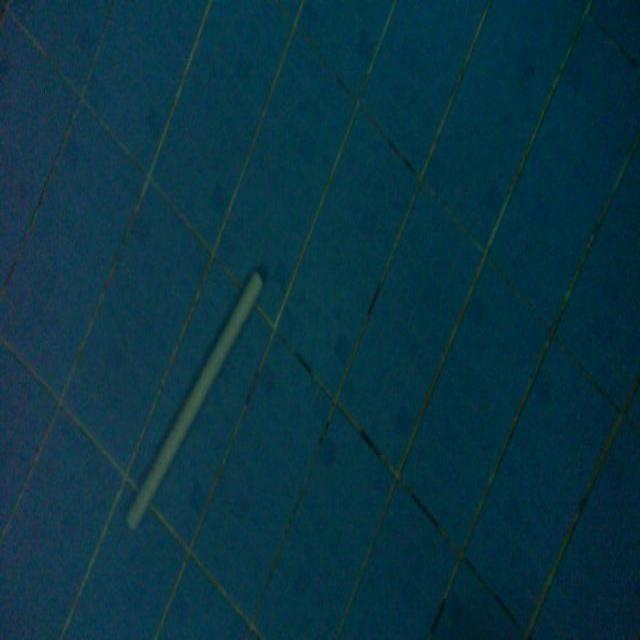Cube: (124, 265, 265, 531)
